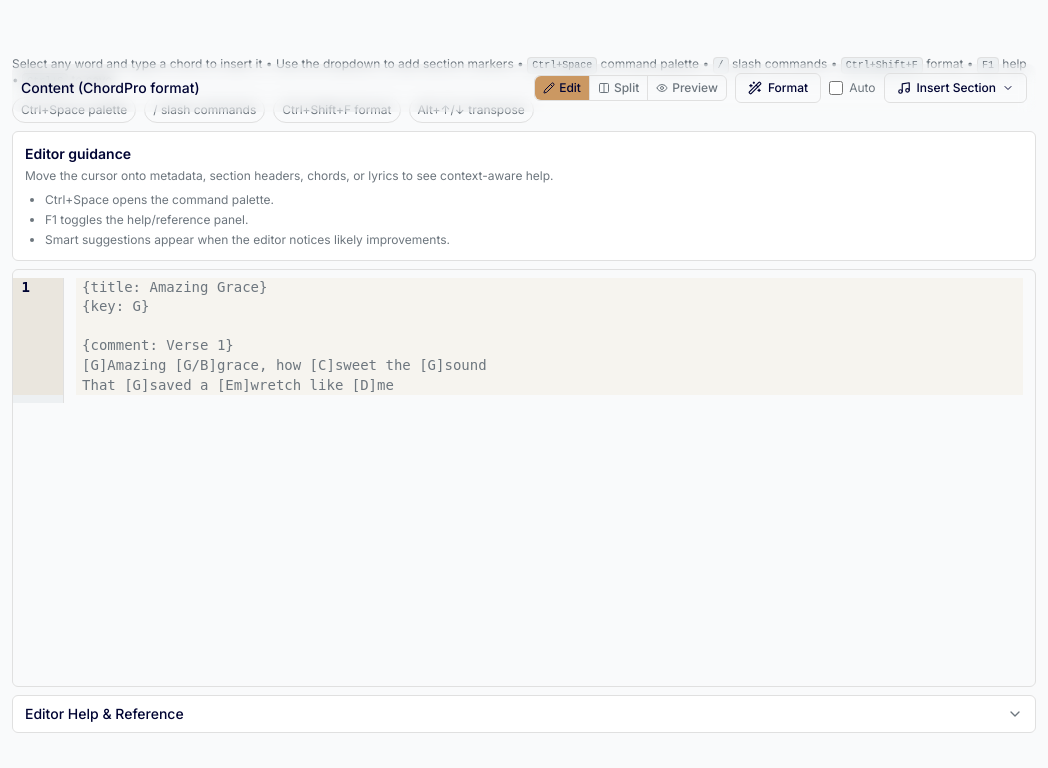
ChordProEditor — Phase 2 features › split preview › shows empty state when no content in preview
Click the button with test id "view-mode-preview": (687, 88) [648,76,726,100]
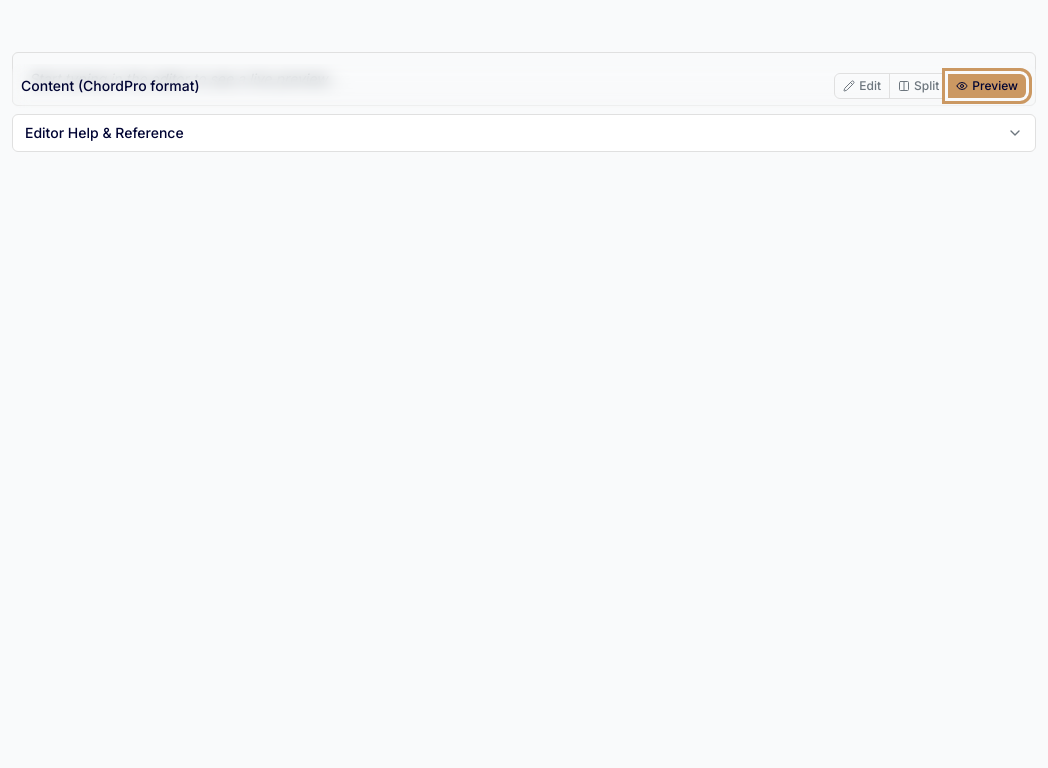
Now the text "Start typing in the editor to see a live preview…" is shown, box [29,70,339,87]
